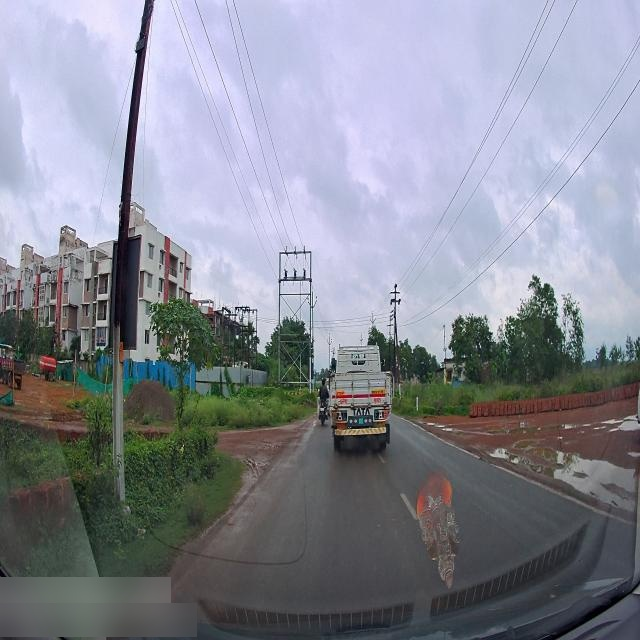pothole: (514, 445, 634, 503), (487, 425, 573, 434), (607, 424, 639, 435), (437, 417, 449, 430), (422, 419, 438, 426), (444, 428, 455, 434)
